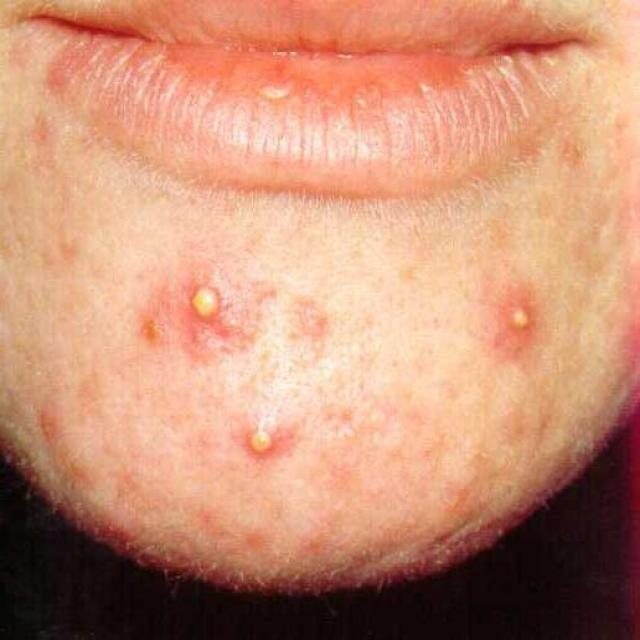pustule: (470, 268, 565, 373), (182, 263, 260, 378), (234, 396, 320, 475)
